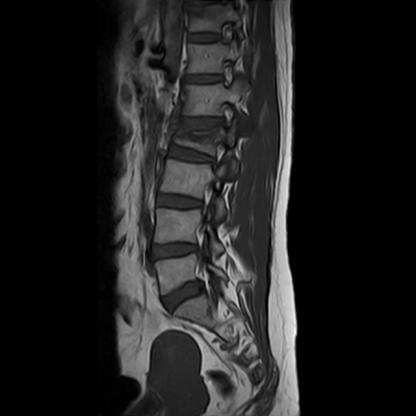Annular Tearrotation: (159, 282, 215, 314)
Fracturerotation: (166, 110, 241, 165)
